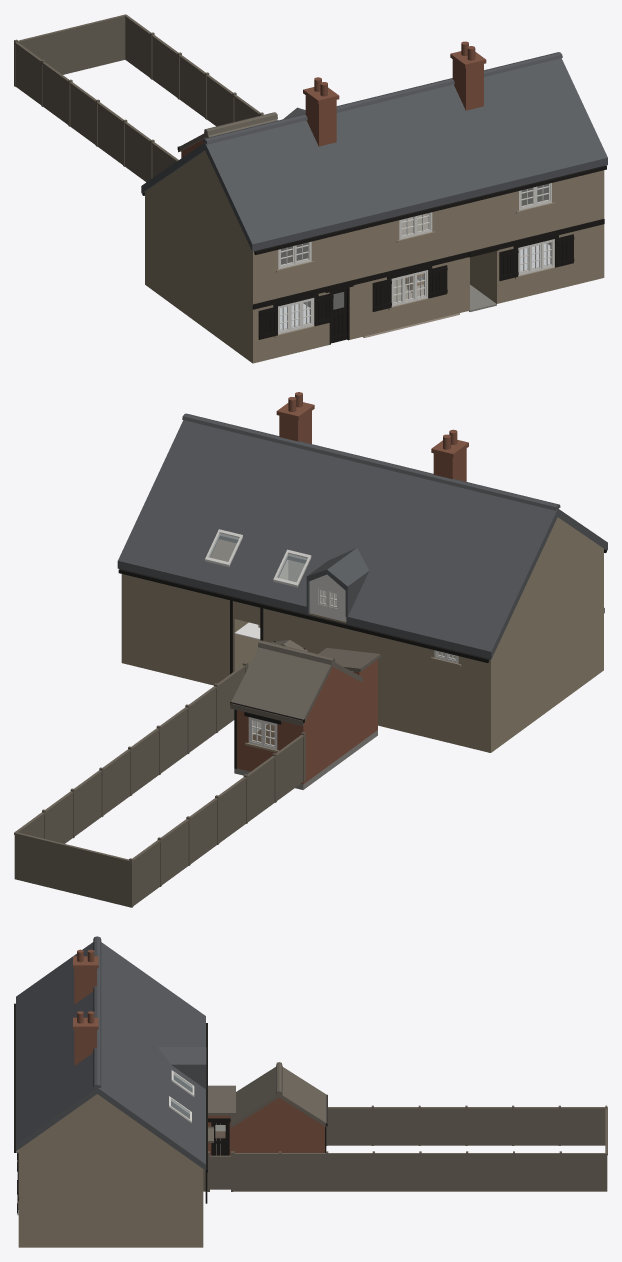
Rendered from house.glb.
3 renders of one model, top to bottom at view 1: azimuth 30°, elevation 25°; view 2: azimuth 150°, elevation 25°; view 3: azimuth 270°, elevation 25°, orthographic. The views are drawn at different scales.
Visible parts, largest first — view 1: slate__roof__context, stone__first__context, slate__roof, timber_fence__ground, stone__ground__context, stone__first, timber_dark__ground__context, stone__ground, brick__first__context, timber_dark__ground, timber_white__ground__context, timber_dark__first__context (+9 smaller); view 2: slate__roof__context, timber_fence__ground, stone__ground__context, slate__roof, stone__first__context, stone_slate__roof, brick__ground, stone__first, brick__first__context, timber_white__first, timber_dark__first__context, brick__first (+3 smaller); view 3: timber_fence__ground, slate__roof__context, stone__first__context, slate__roof, stone__ground__context, stone_slate__roof, brick__ground, brick__first, brick__first__context, timber_dark__ground.
Boxes of the visible parts, x1,y1,x2,y2 form: slate__roof__context: (141,52,607,251); stone__first__context: (145,151,604,301); slate__roof: (283,78,498,224); timber_fence__ground: (14,14,263,182); stone__ground__context: (145,184,604,363); stone__first: (360,196,496,275); timber_dark__ground__context: (252,219,604,344); stone__ground: (360,242,496,337); brick__first__context: (303,41,486,146); timber_dark__ground: (177,146,497,311); timber_white__ground__context: (278,239,554,334); timber_dark__first__context: (142,165,606,254); slate__roof__context: (117,413,607,659); timber_fence__ground: (14,661,305,907); stone__ground__context: (121,539,603,752); slate__roof: (233,441,442,631); stone__first__context: (121,517,603,688); stone_slate__roof: (230,639,380,725); brick__ground: (237,661,377,784); stone__first: (234,601,377,653); brick__first__context: (276,392,468,481); timber_white__first: (273,549,346,621); timber_dark__first__context: (118,549,606,662); brick__first: (311,429,454,709); timber_fence__ground: (203,1105,607,1191); slate__roof__context: (16,936,205,1170); stone__first__context: (17,1094,203,1194); slate__roof: (16,982,206,1118); stone__ground__context: (17,1195,203,1247); stone_slate__roof: (208,1062,327,1142); brick__ground: (208,1115,324,1155); brick__first: (73,951,314,1120); brick__first__context: (73,949,98,1065); timber_dark__ground: (17,1094,327,1160).
Bounding box in the file's own units: 13.9 × 8.85 × 23.51.
